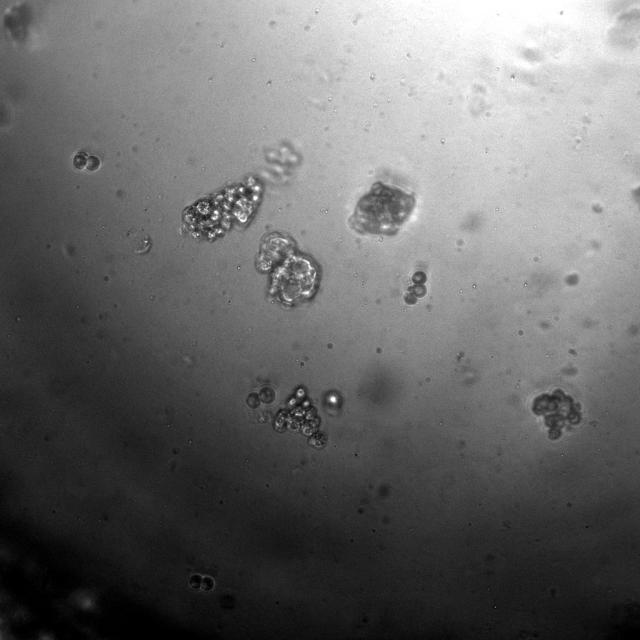organoid: (181, 176, 264, 241), (256, 230, 319, 306), (348, 181, 416, 235), (271, 385, 326, 448), (532, 388, 581, 438), (403, 268, 427, 305), (246, 384, 275, 410), (71, 150, 99, 171), (188, 574, 214, 591)
